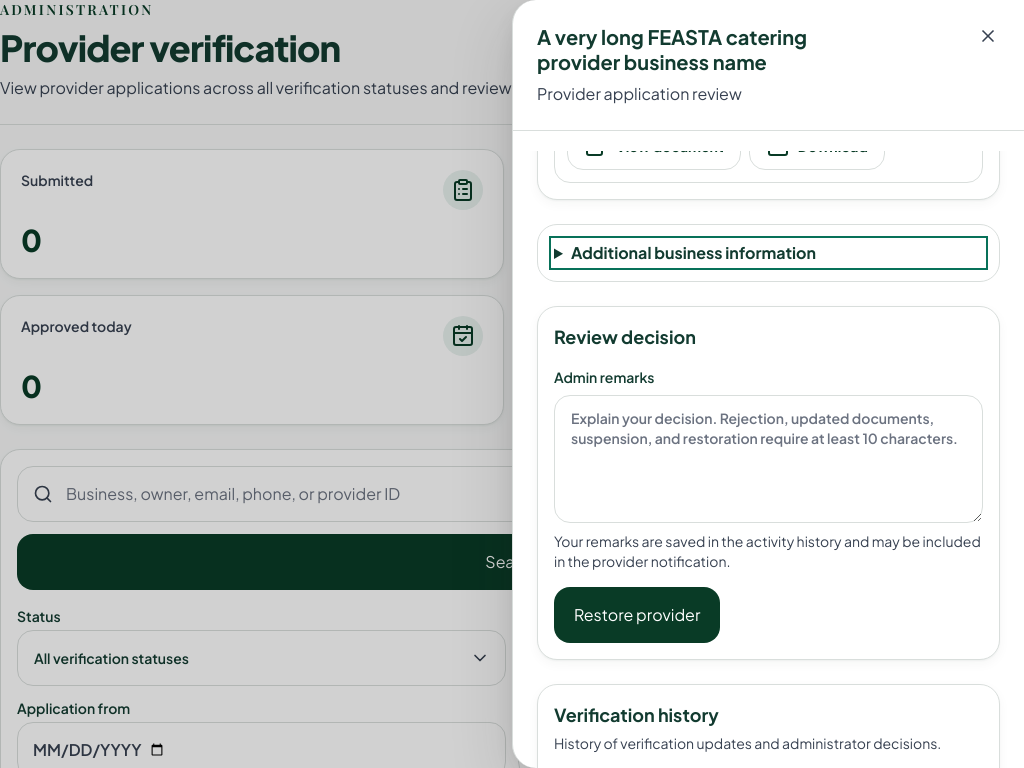
Test case: provider restoration › sends only trusted decision inputs and refreshes after success
The width and height of the screenshot is (1024, 768).
(page scrolled)
Replace the text in the text box labelled "Admin remarks" with "Accidental suspension during administrator testing." at (768, 459), box [554, 395, 983, 523]
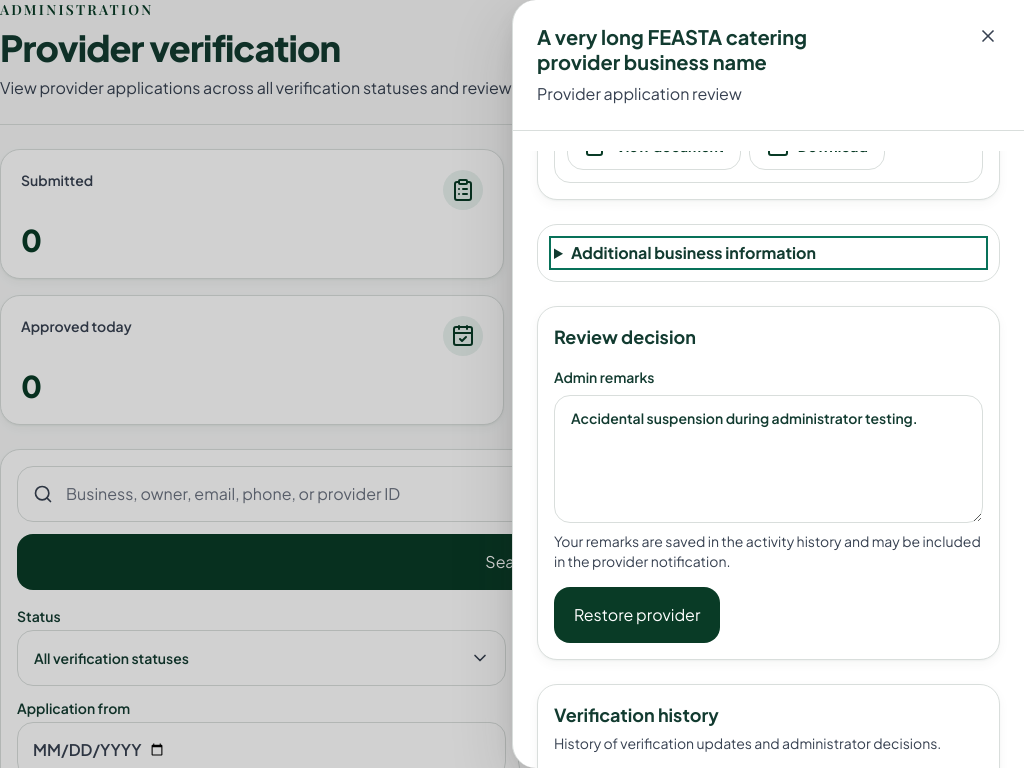
Click the button "Restore provider" at (637, 615), box [554, 587, 720, 643]
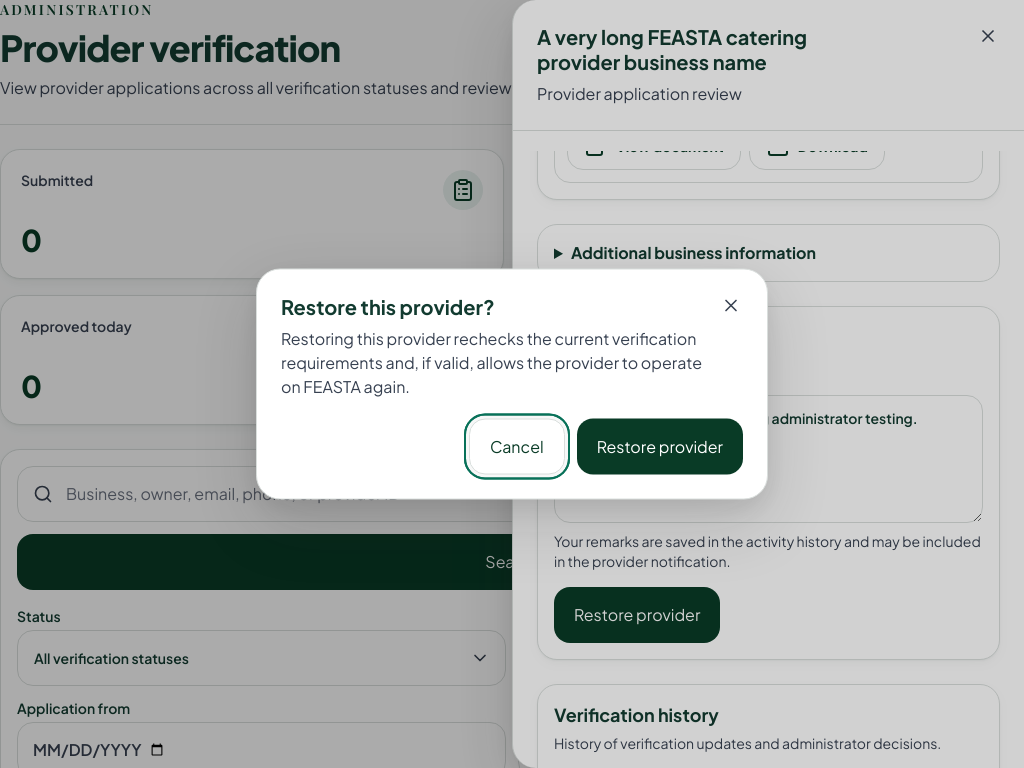
expect the dialog "Restore this provider?" shows "rechecks the current verification requirements": met, box [281, 328, 702, 396]
Click the button "Restore provider" at (660, 446), box [577, 418, 743, 474]
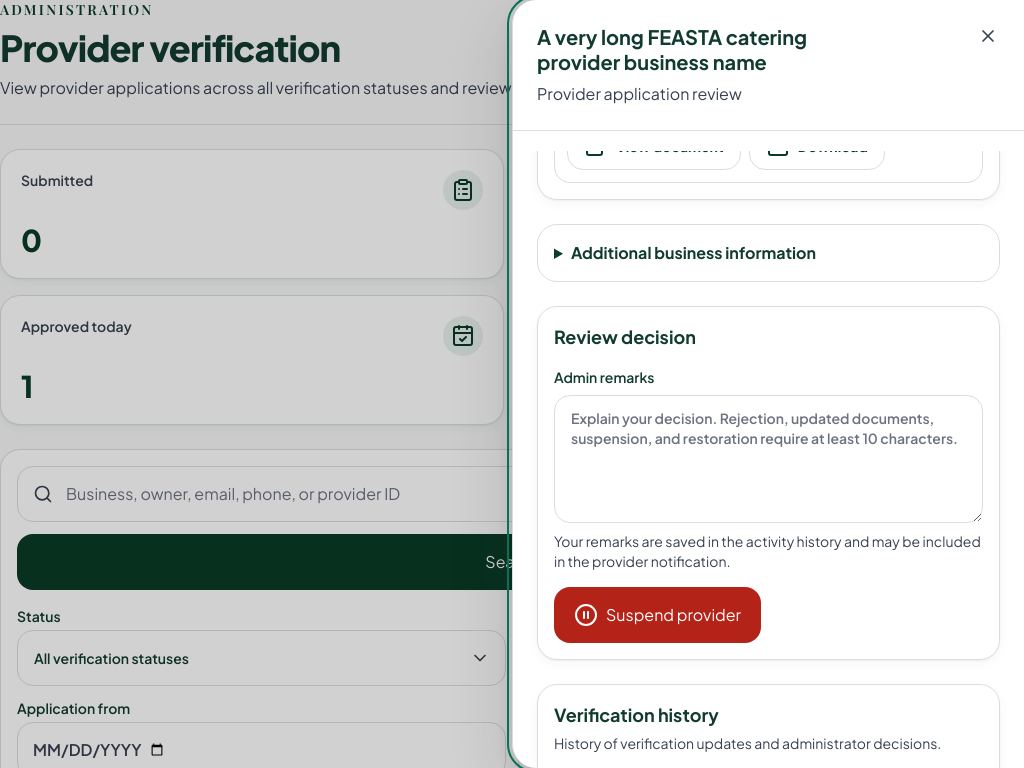
expect the button "Restore provider" is gone: met
